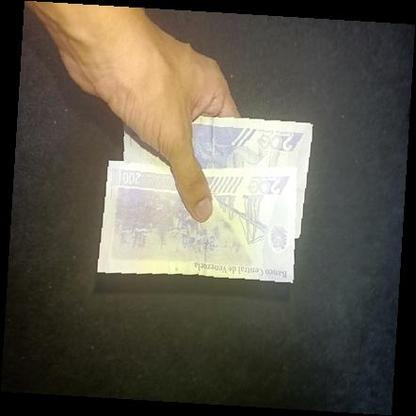vef_back: (96, 160, 296, 282)
